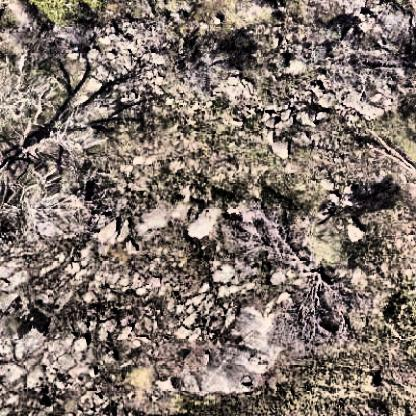tree-top: (8, 1, 98, 67), (168, 41, 248, 109)
